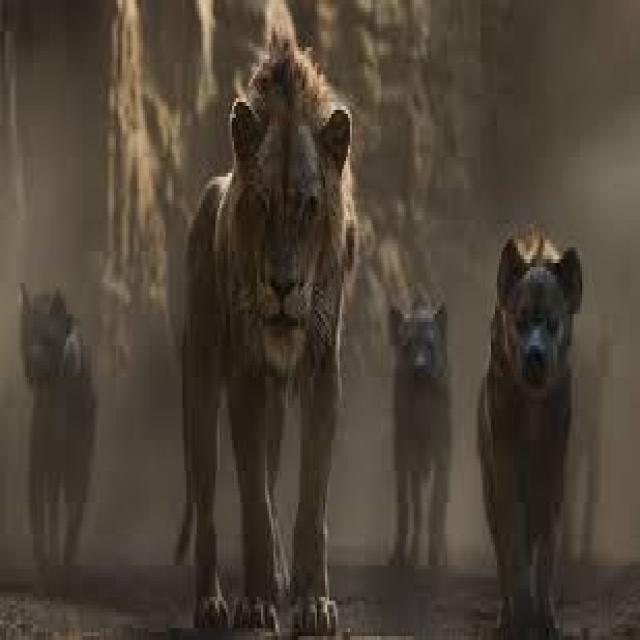Lion: (188, 25, 353, 619)
